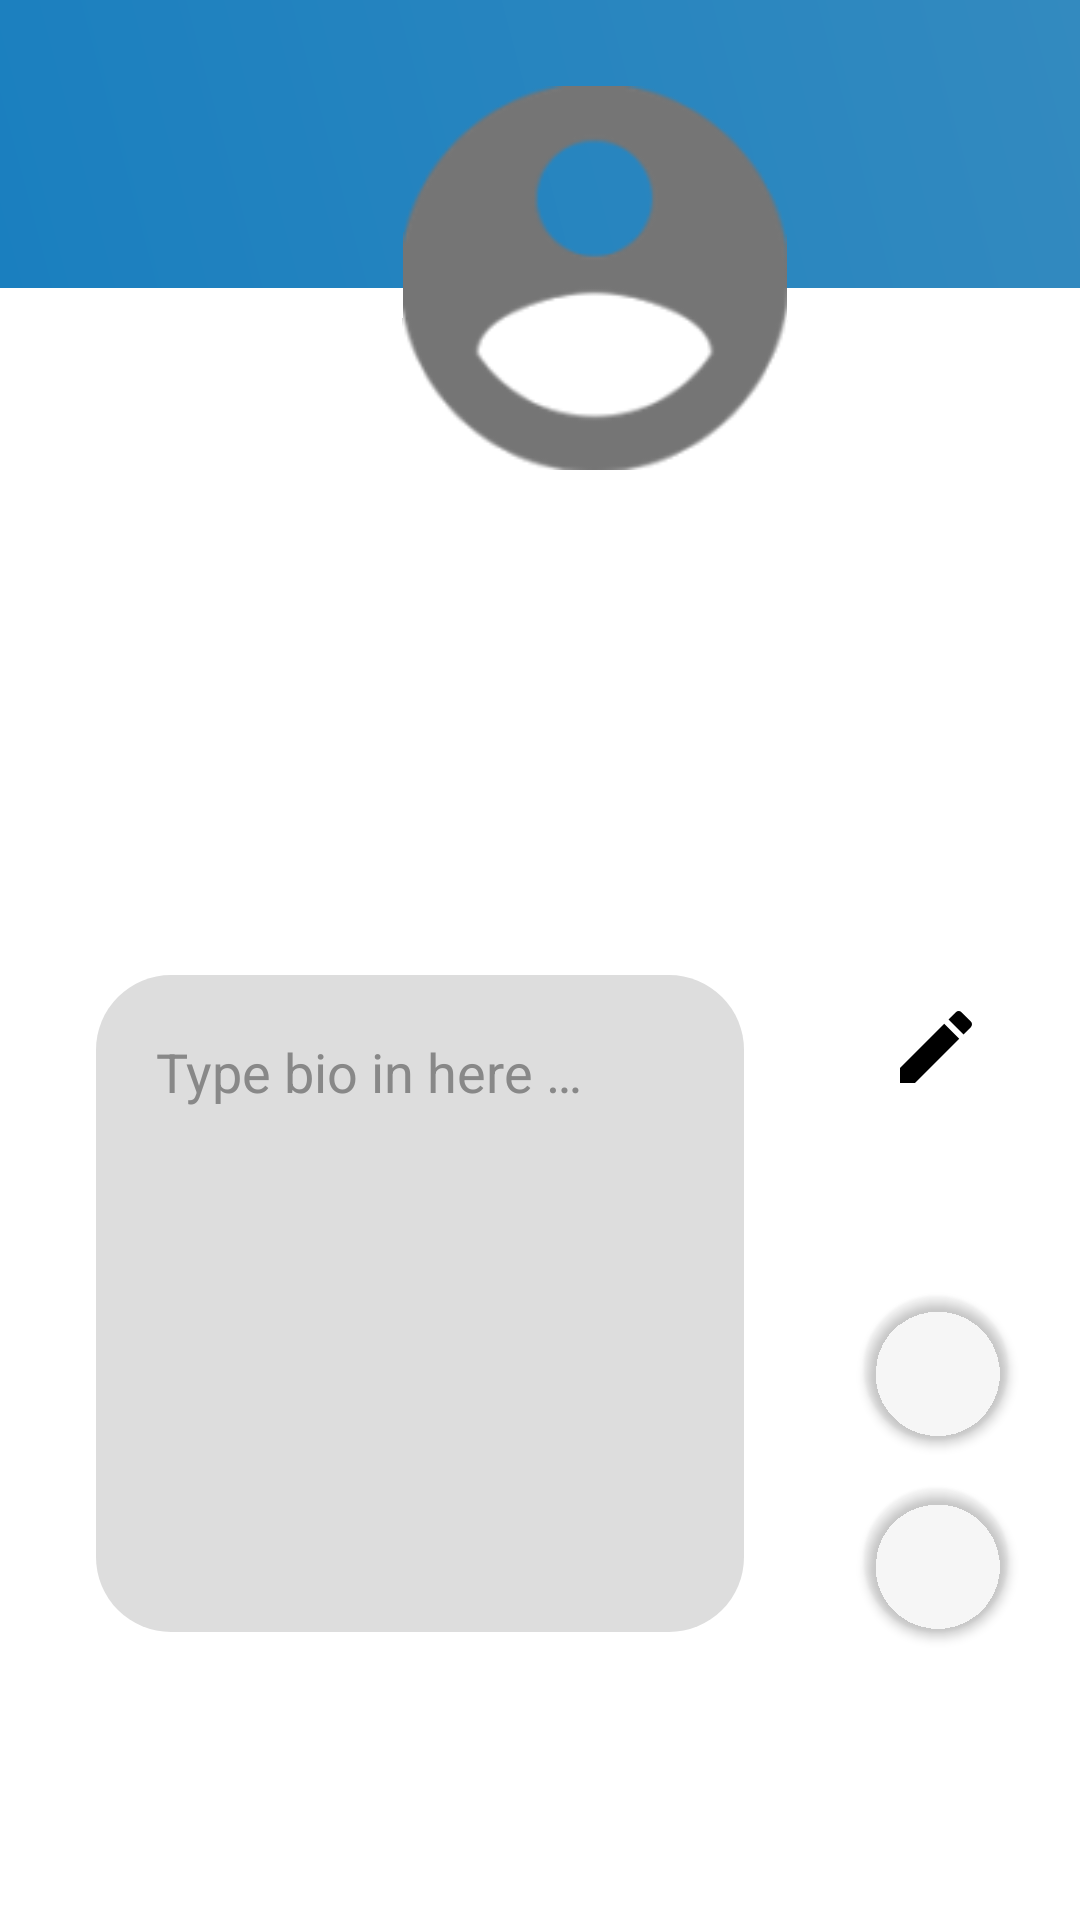

Screen size 1080*1920. Icon name, then its center in pixels as [x,y]:
edit: [936,1047]
